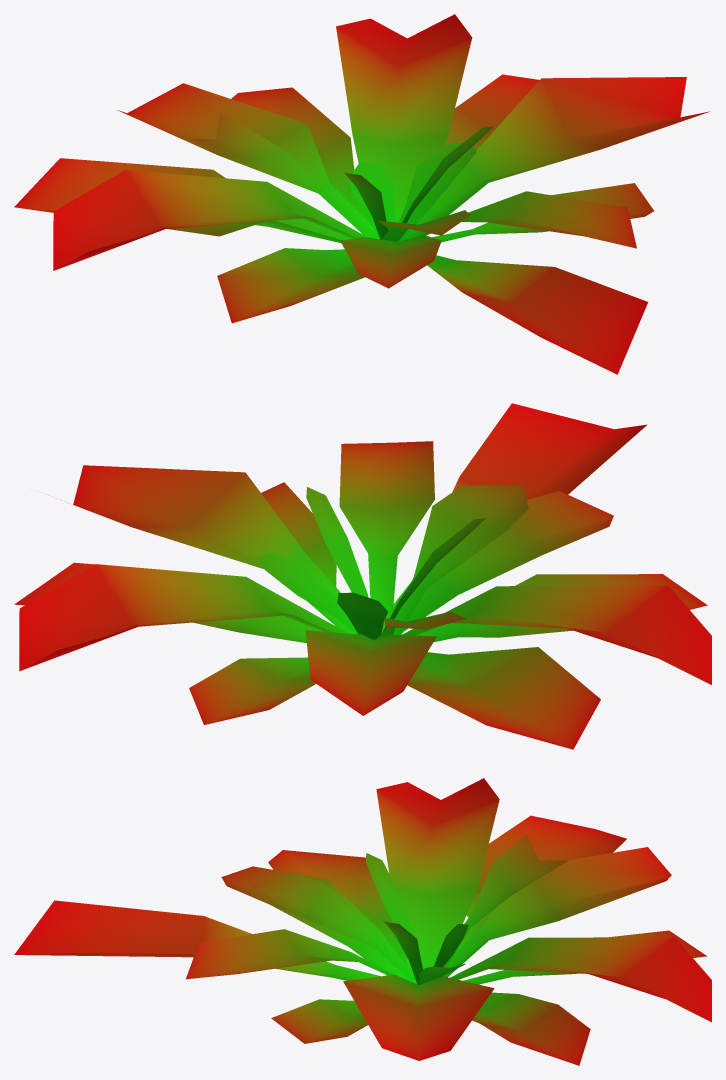
File: Var24_LOD1.fbx
3 renders of one model, top to bottom at view 1: azimuth 30°, elevation 25°; view 2: azimuth 150°, elevation 25°; view 3: azimuth 270°, elevation 25°, orthographic. The views are drawn at different scales.
Visible parts, largest first — view 1: _3137_Var24_LOD1; view 2: _3137_Var24_LOD1; view 3: _3137_Var24_LOD1.
Part boxes in pixels (x1,y1,x2,y2): _3137_Var24_LOD1: [14, 14, 710, 374]; _3137_Var24_LOD1: [14, 403, 711, 749]; _3137_Var24_LOD1: [14, 778, 711, 1065].
Size of the model in its own units: 21.96 by 4.04 by 22.97.
